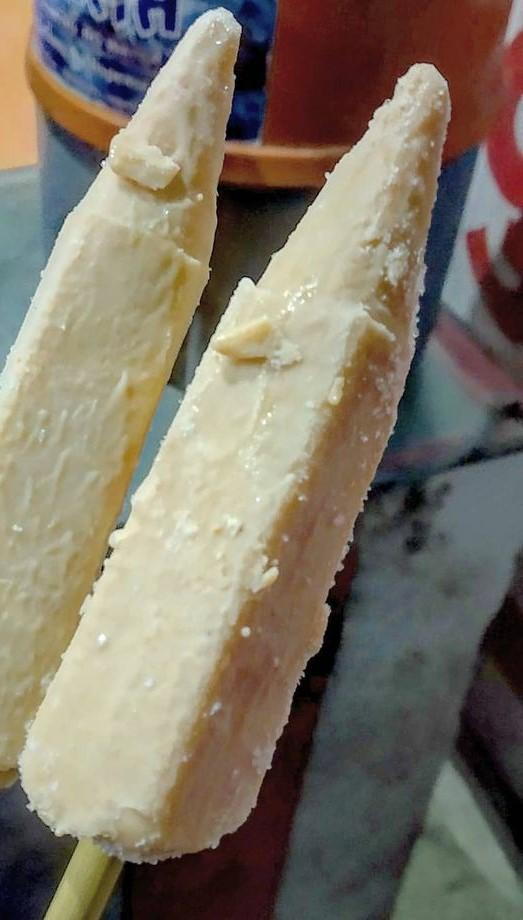Kulfi: (18, 62, 452, 863), (0, 2, 244, 784)
